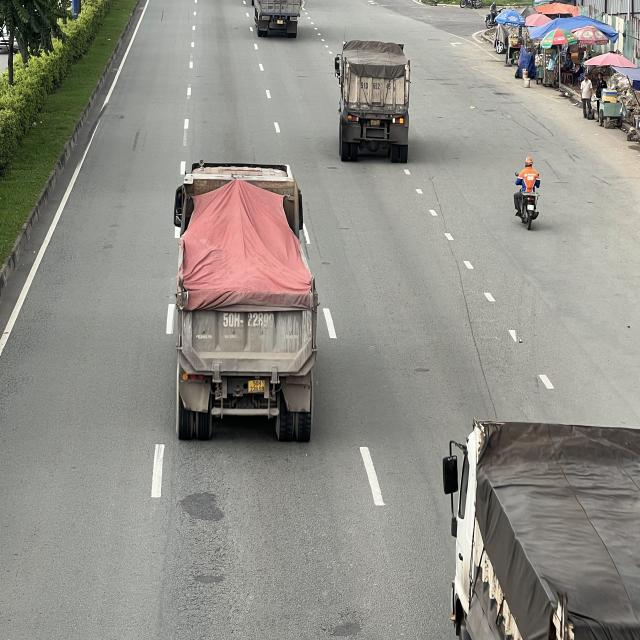container: (444, 417, 640, 640), (174, 160, 318, 443), (335, 39, 414, 162)
truck: (251, 0, 304, 39)
